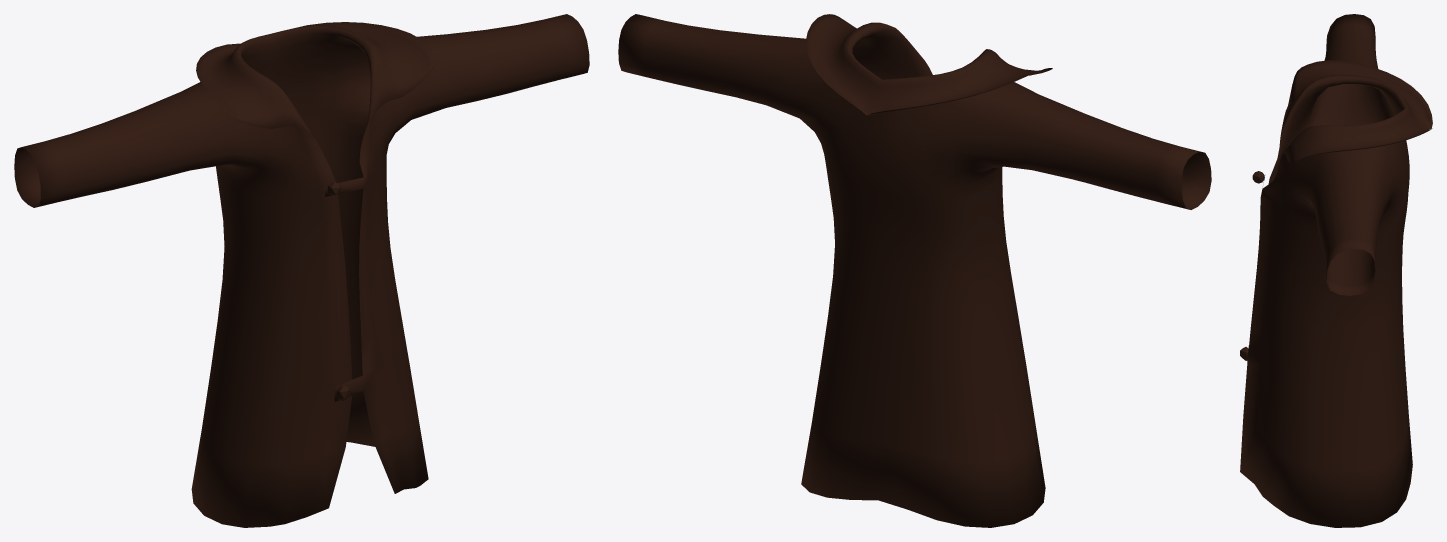
Rendered from hcMale.fbx.
3 renders of one model, left to right at view 1: azimuth 30°, elevation 25°; view 2: azimuth 150°, elevation 25°; view 3: azimuth 270°, elevation 25°, orthographic. The views are drawn at different scales.
Parts seen in each view (by area): view 1: Coat; view 2: Coat; view 3: Coat.
Part boxes in pixels (x1=…): Coat: x1=14, y1=14, x2=589, y2=527; Coat: x1=618, y1=14, x2=1211, y2=527; Coat: x1=1240, y1=14, x2=1432, y2=527.
Size of the model in its own units: 92.05 by 69.45 by 31.76.
